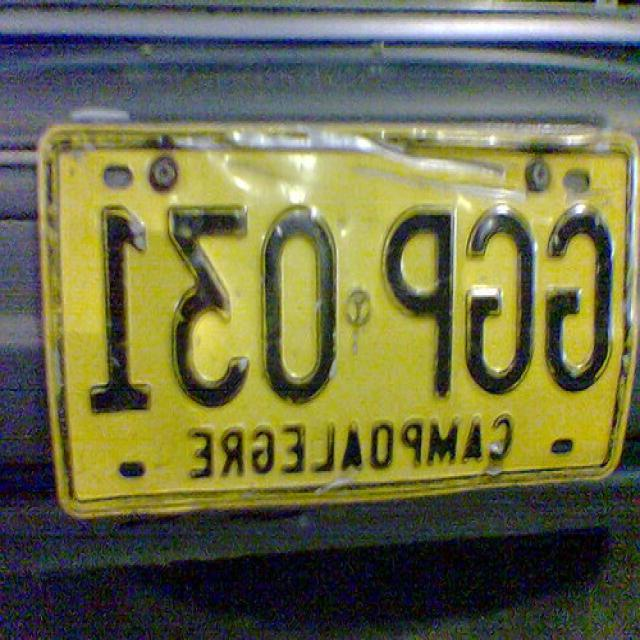placas: (82, 193, 620, 432)
